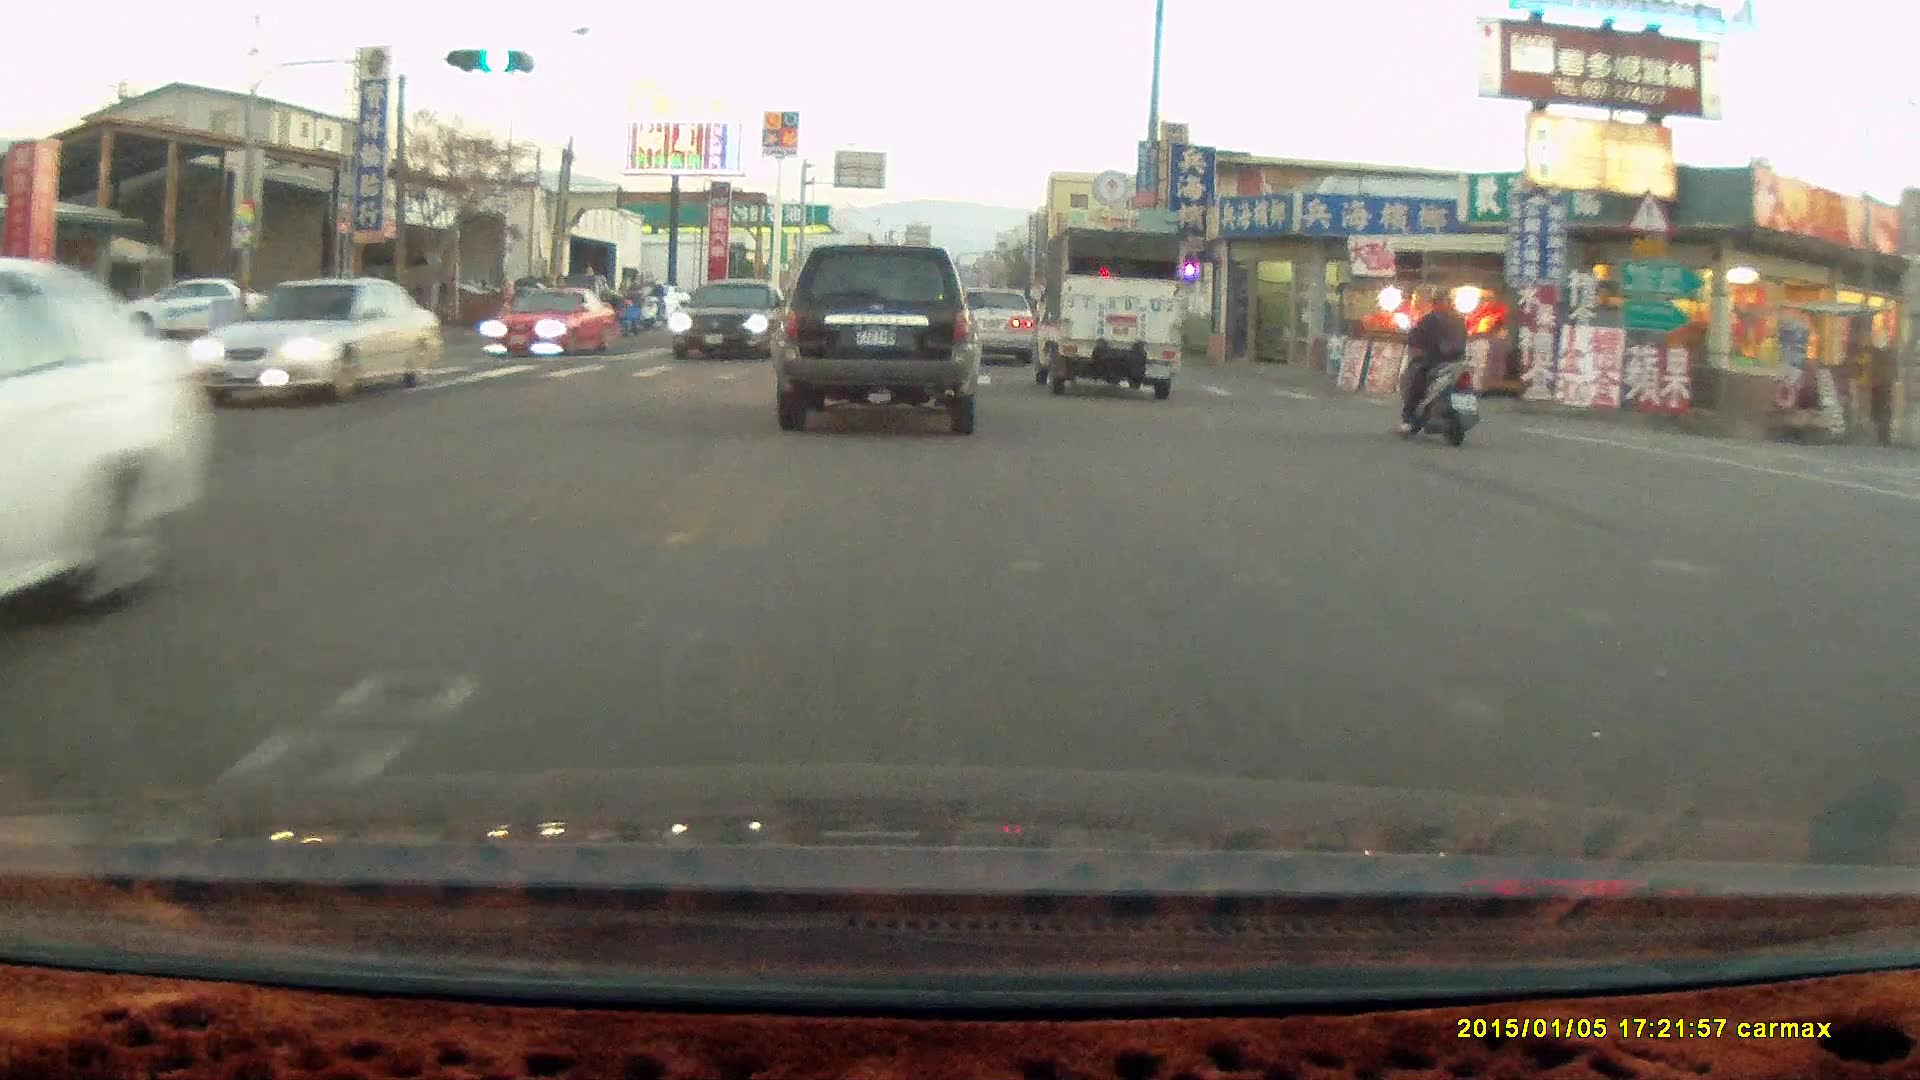rider: (1390, 282, 1478, 444), (636, 281, 670, 334), (613, 285, 648, 338)
vehicle: (1, 251, 215, 637), (773, 244, 985, 434), (179, 276, 448, 411), (1025, 226, 1179, 399), (671, 278, 806, 365), (489, 286, 615, 362), (109, 281, 273, 338), (946, 286, 1036, 366), (960, 293, 1039, 366)
